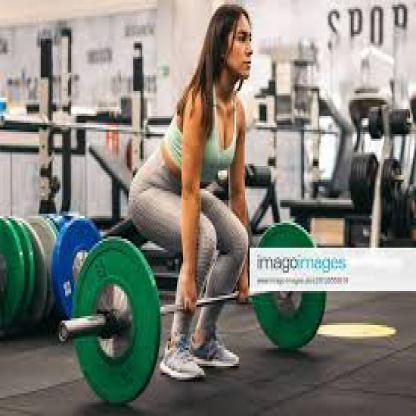barbell: (61, 236, 162, 408)
